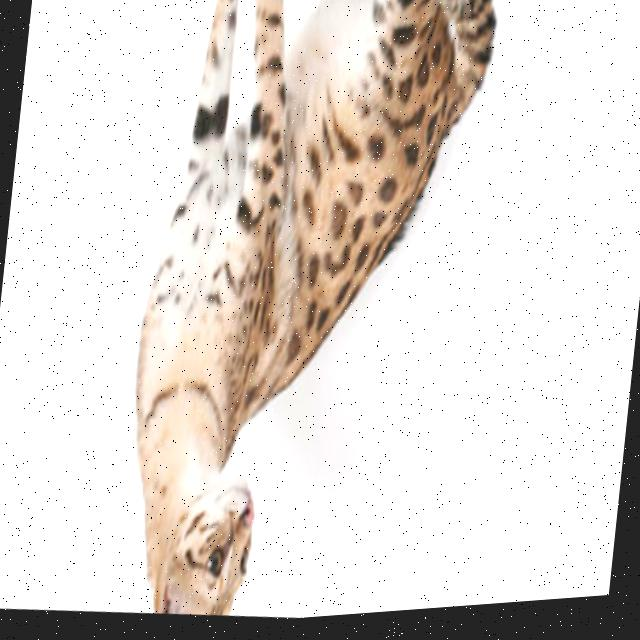Savannah: (107, 0, 502, 634)
